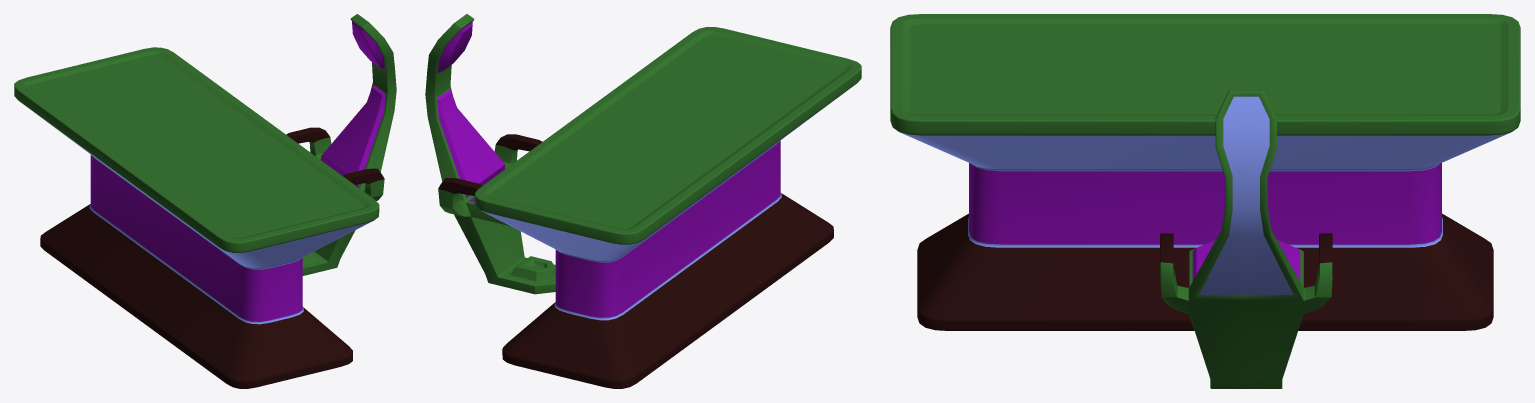
Rendered from Prop005.fbx.
The picture shows the model from 3 angles, left to right: view 1: azimuth 30°, elevation 25°; view 2: azimuth 150°, elevation 25°; view 3: azimuth 270°, elevation 25°; orthographic projection. The views are drawn at different scales.
Visible parts, largest first — view 1: Box002, Box003; view 2: Box002, Box003; view 3: Box002, Box003.
Boxes of the visible parts, x1,y1,x2,y2 form: Box002: (14,47,379,388); Box003: (286,14,396,275); Box002: (474,27,861,388); Box003: (425,14,555,294); Box002: (890,14,1520,330); Box003: (1160,90,1332,388).
Size of the model in its own units: 124 by 95.77 by 168.
